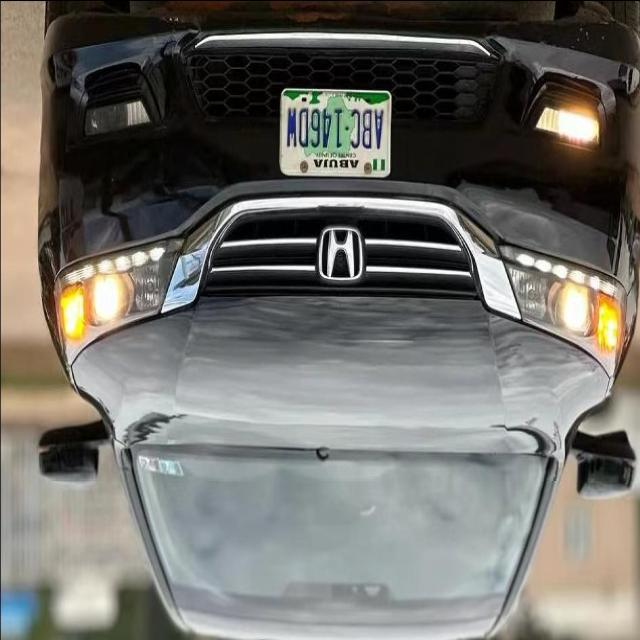Nigerian License Plate - vdataset benjamin-daria: (274, 78, 394, 183)
